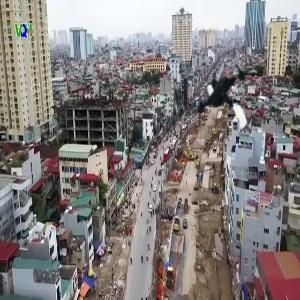drone: (184, 58, 267, 141)
